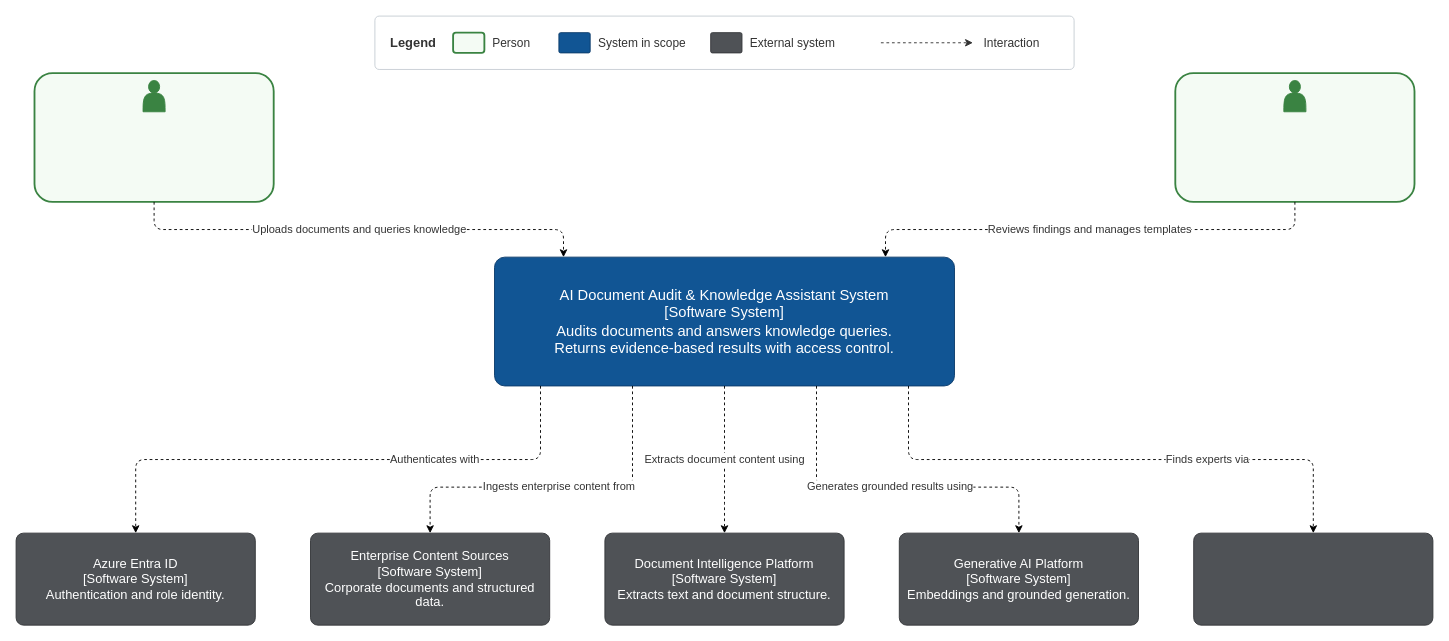
Image size: 1449x641. Some labels were removed from this diagram. Each missing label, with the box of its shape:
Customer / Reviewer [Person] Reviews findings, templates and experts.: (1174, 72, 1415, 202)
HR / Org Directory [Software System] Employee profiles for expert matching.: (1193, 532, 1433, 625)
Vendor / Contractor [Person] Uploads documents and queries knowledge.: (33, 72, 274, 202)
